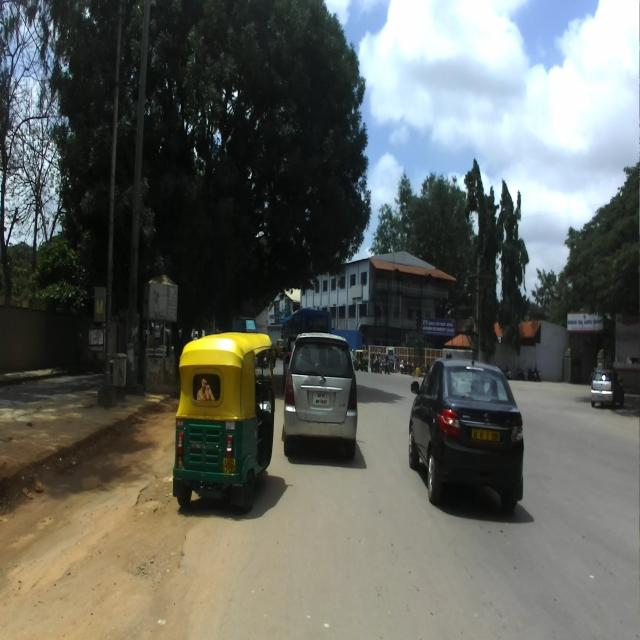autorickshaw: (171, 331, 276, 511)
car: (405, 351, 525, 515), (281, 332, 357, 461)
